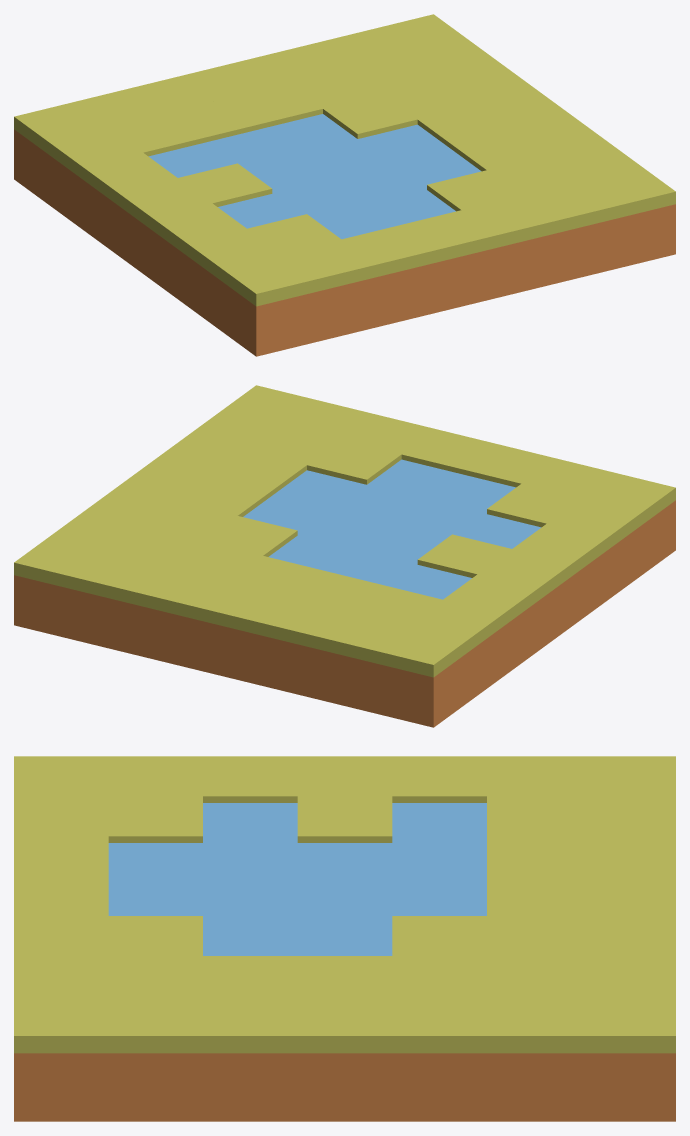
Rendered from lac.glb.
3 views of the same model, one above another, from view 1: azimuth 30°, elevation 25°; view 2: azimuth 150°, elevation 25°; view 3: azimuth 270°, elevation 25° (orthographic). The views are drawn at different scales.
Parts seen in each view (by area): view 1: mergedBlocks(Clone); view 2: mergedBlocks(Clone); view 3: mergedBlocks(Clone).
Part boxes in pixels (x1,y1,x2,y2): mergedBlocks(Clone): [14, 14, 675, 356]; mergedBlocks(Clone): [14, 385, 675, 727]; mergedBlocks(Clone): [14, 756, 675, 1121].
Bounding box in the file's own units: 7 × 1 × 7.
1 material, 1 textured.
